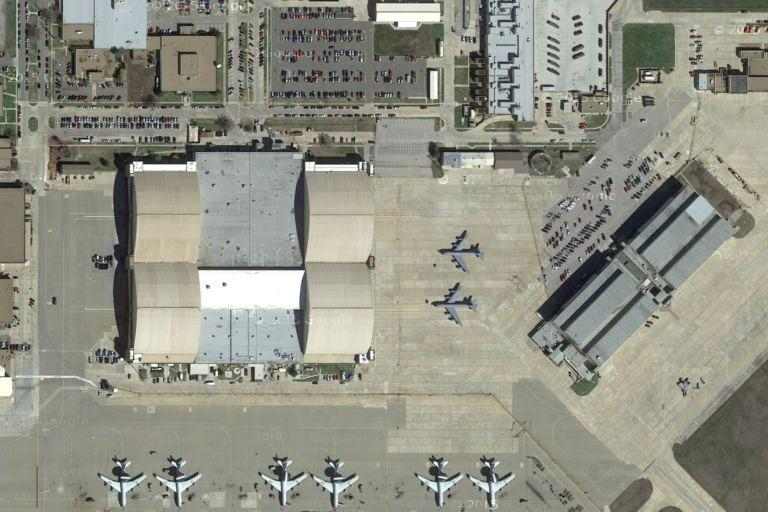E-3: (465, 453, 517, 507), (412, 456, 466, 507), (310, 457, 363, 508), (152, 455, 205, 506), (257, 454, 308, 506), (96, 455, 147, 507)
KC-135: (433, 231, 486, 273), (430, 282, 478, 324)
